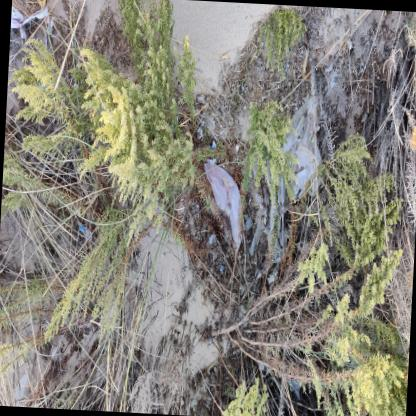Plastic: (10, 5, 48, 39), (12, 368, 38, 406), (248, 216, 264, 255), (196, 126, 201, 139), (219, 264, 225, 270)
Waste: (276, 95, 321, 204), (203, 162, 241, 253), (77, 221, 90, 239), (207, 139, 215, 150), (50, 344, 56, 356)
